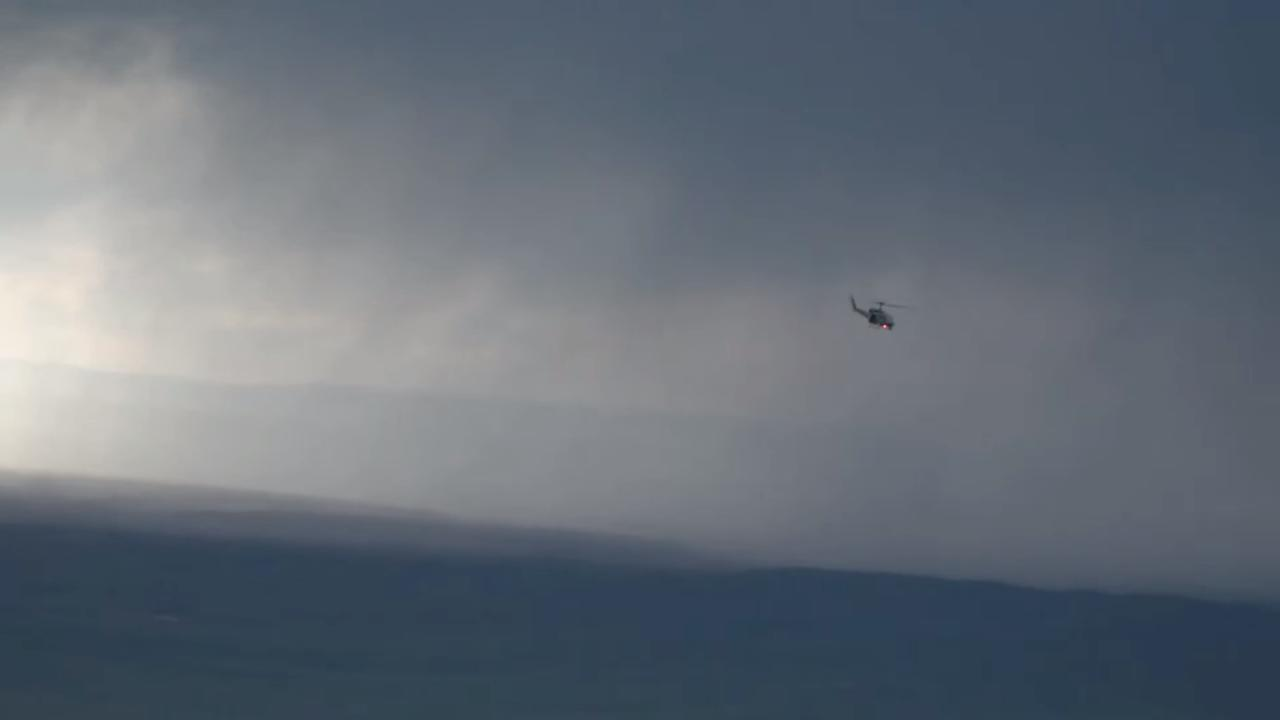Helicopter: (832, 288, 917, 341)
